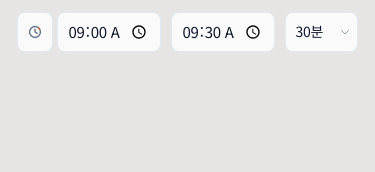
Test case: TimeRangeSelectors — 지금 맞춤 › 시스템 시각이 바뀐 뒤 다시 누르면 새 스냅 시각이 반영된다
Click the button named "시작 시간을 현재 시각으로 맞추기": (34, 32) [16,12,52,52]
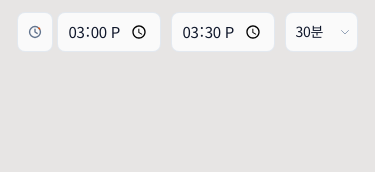
Now the 1st time field named "시작 시간 선택" holds "15:00", box [56,12,160,52]
Click the button named "시작 시간을 현재 시각으로 맞추기": (34, 32) [16,12,52,52]
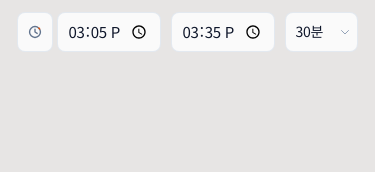
Now the 1st time field named "시작 시간 선택" holds "15:05", box [56,12,160,52]
